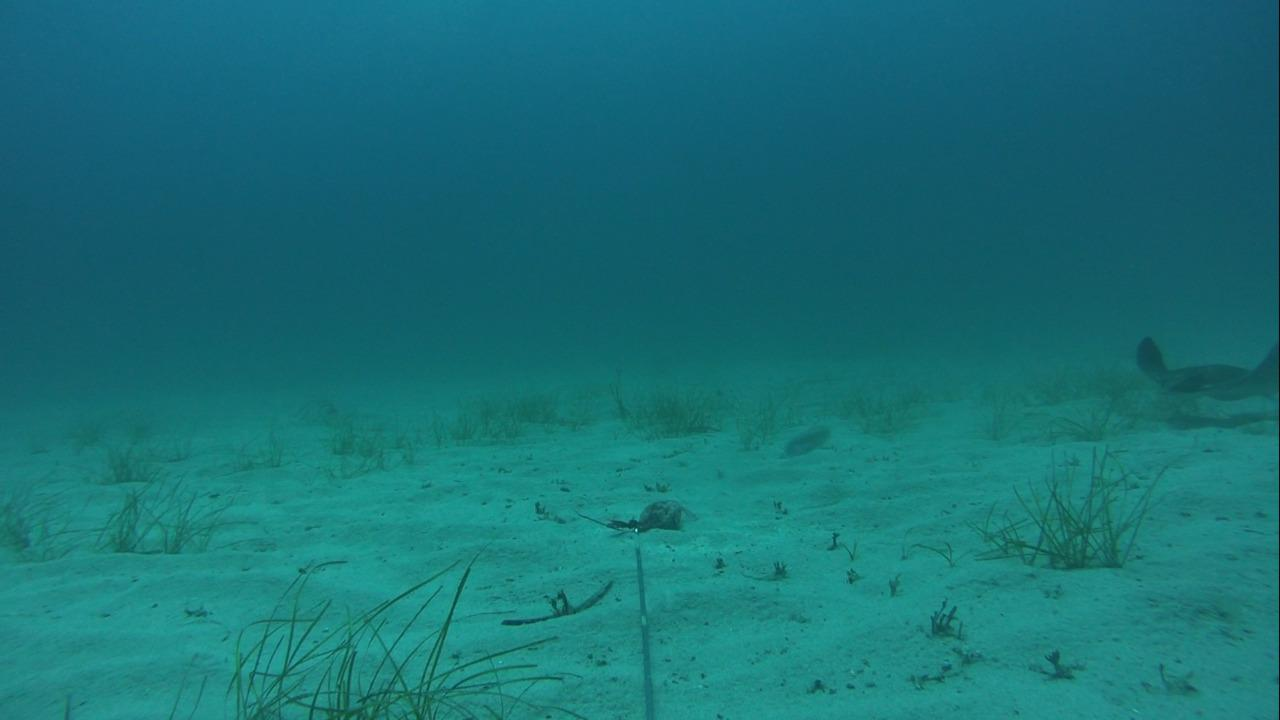myliobatis: (1116, 328, 1279, 407)
raor: (779, 421, 835, 460)
